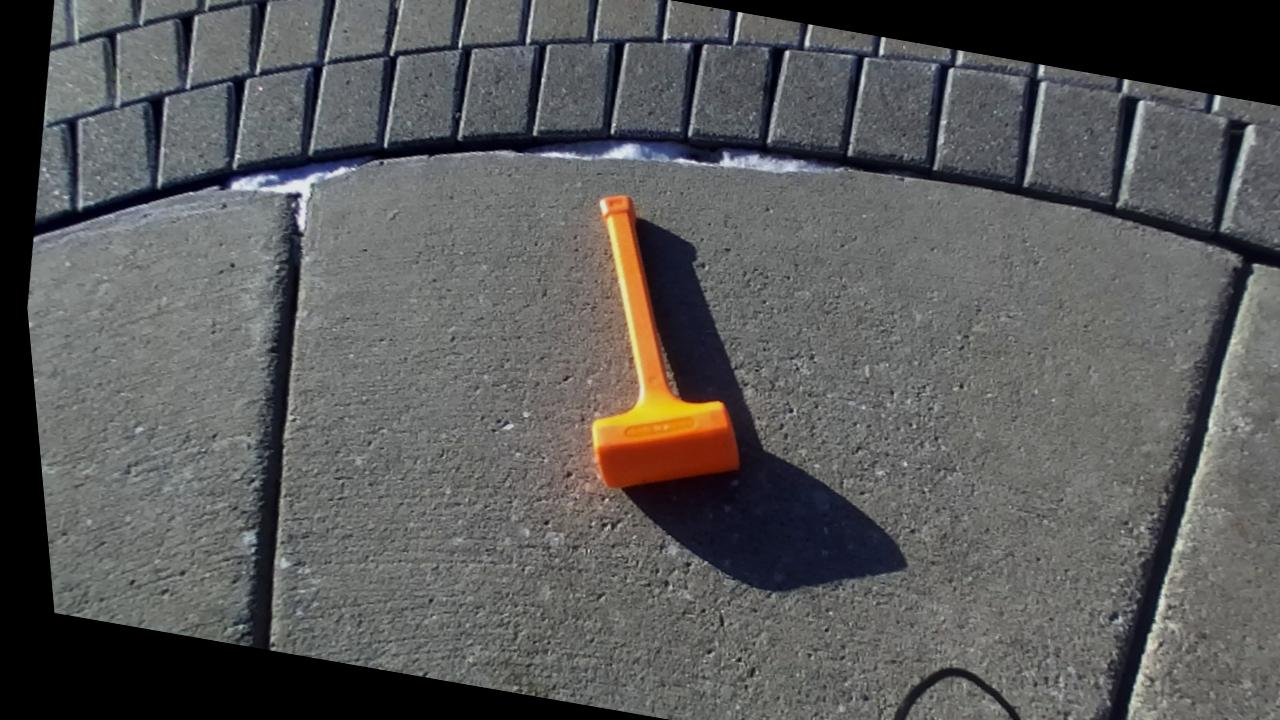mallet: (591, 194, 738, 486)
